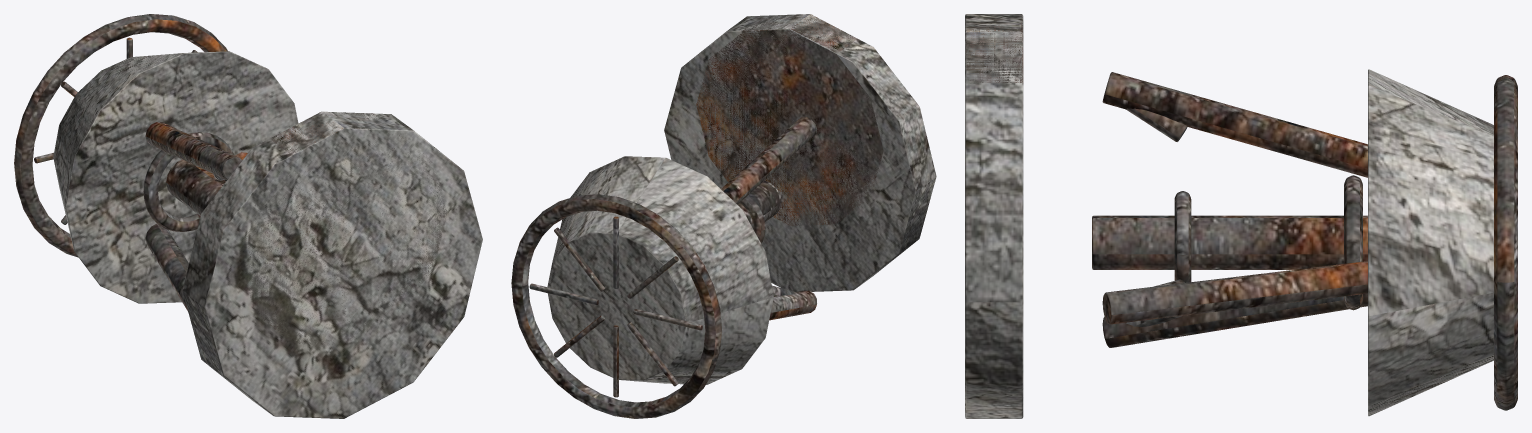
Rendered from watchtower-signal-brazier-v01.glb.
3 views of the same model, side by side, from view 1: azimuth 30°, elevation 25°; view 2: azimuth 150°, elevation 25°; view 3: azimuth 270°, elevation 25° (orthographic). The views are drawn at different scales.
Parts seen in each view (by area): view 1: watchtower-signal-brazier-v01; view 2: watchtower-signal-brazier-v01; view 3: watchtower-signal-brazier-v01.
Boxes of the visible parts, x1,y1,x2,y2 form: watchtower-signal-brazier-v01: (14,14,482,418); watchtower-signal-brazier-v01: (511,14,936,418); watchtower-signal-brazier-v01: (965,14,1517,418).
Size of the model in its own units: 1.12 by 1.12 by 1.52.
2 materials, 2 textured.
